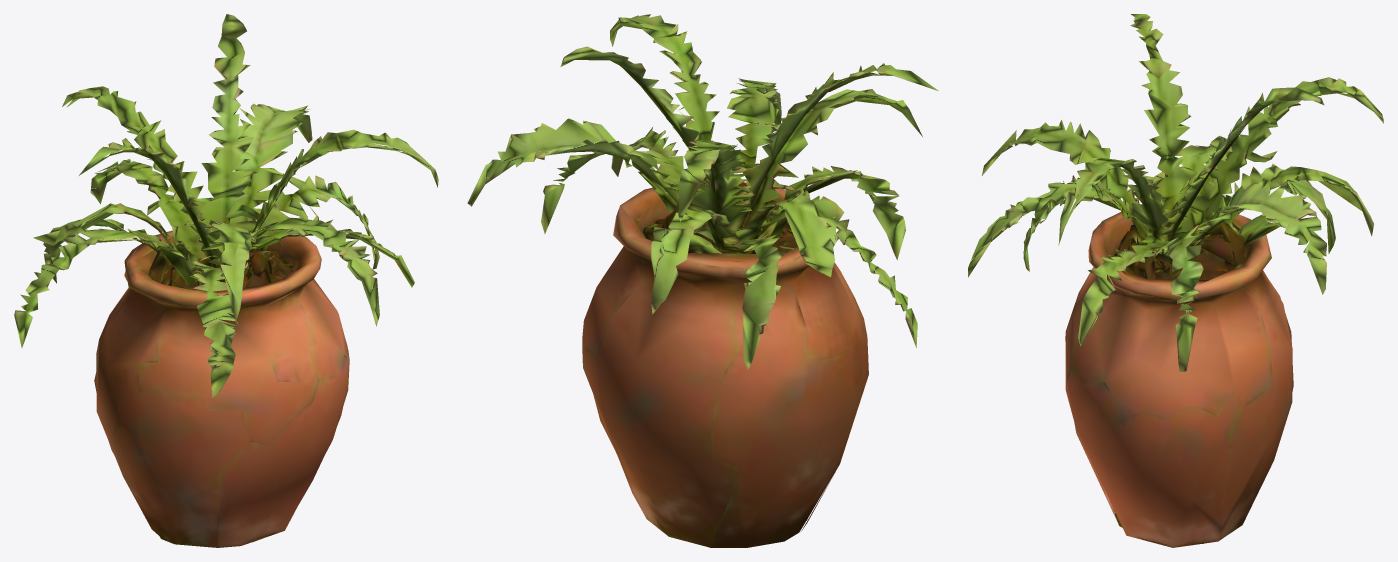
The model's file is macetero.movil.glb.
The picture shows the model from 3 angles, left to right: view 1: azimuth 30°, elevation 25°; view 2: azimuth 150°, elevation 25°; view 3: azimuth 270°, elevation 25°; orthographic projection. The views are drawn at different scales.
Visible parts, largest first — view 1: geometry_0; view 2: geometry_0; view 3: geometry_0.
Part boxes in pixels (x1,y1,x2,y2): geometry_0: [14, 14, 438, 547]; geometry_0: [467, 14, 938, 547]; geometry_0: [968, 14, 1383, 547].
Bounding box in the file's own units: 0.6948 × 0.8474 × 0.6973.
1 material, 1 textured.
